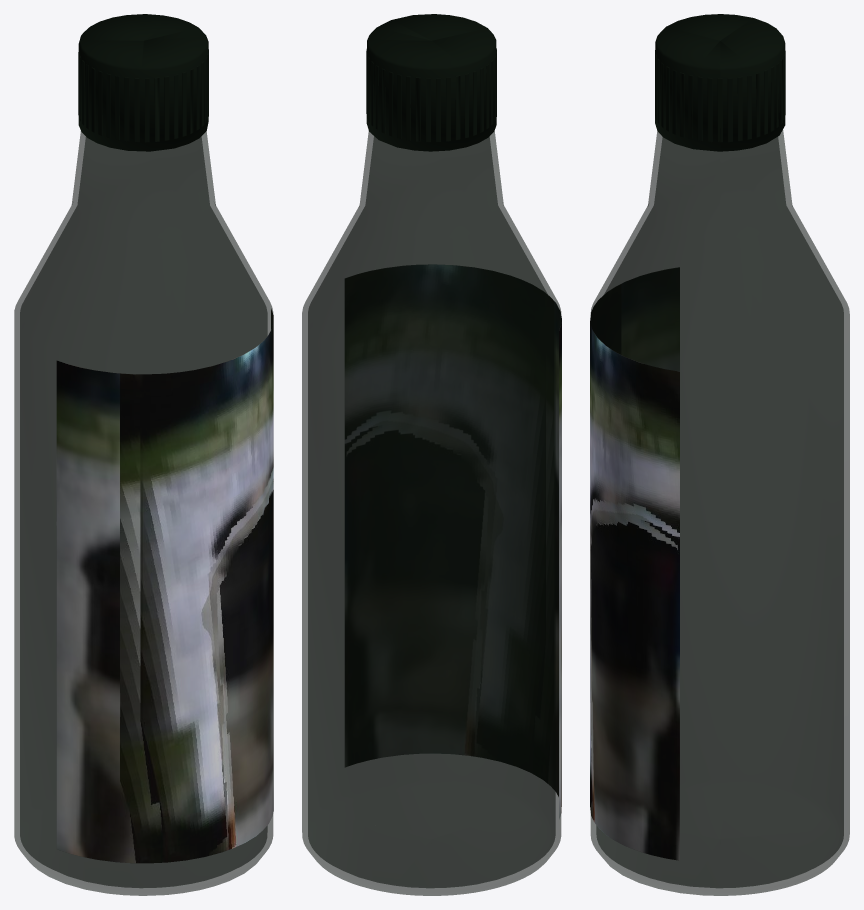
3 views of the same model, side by side, from view 1: azimuth 30°, elevation 25°; view 2: azimuth 150°, elevation 25°; view 3: azimuth 270°, elevation 25° (orthographic).
Parts seen in each view (by area): view 1: oil_bottle__body, oil_bottle__cap; view 2: oil_bottle__body, oil_bottle__cap; view 3: oil_bottle__body, oil_bottle__cap.
Part boxes in pixels (box(x1,y1,x2,y2)): oil_bottle__body: box(14, 131, 273, 895); oil_bottle__cap: box(78, 14, 208, 151); oil_bottle__body: box(302, 131, 561, 895); oil_bottle__cap: box(366, 14, 496, 151); oil_bottle__body: box(590, 130, 849, 895); oil_bottle__cap: box(655, 14, 785, 151).
Bounding box in the file's own units: 0.0691 × 0.2363 × 0.0692.
Materials: 3 (1 with a texture image).
